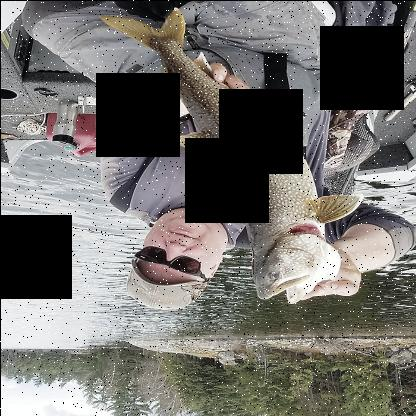fish: (100, 9, 358, 304)
